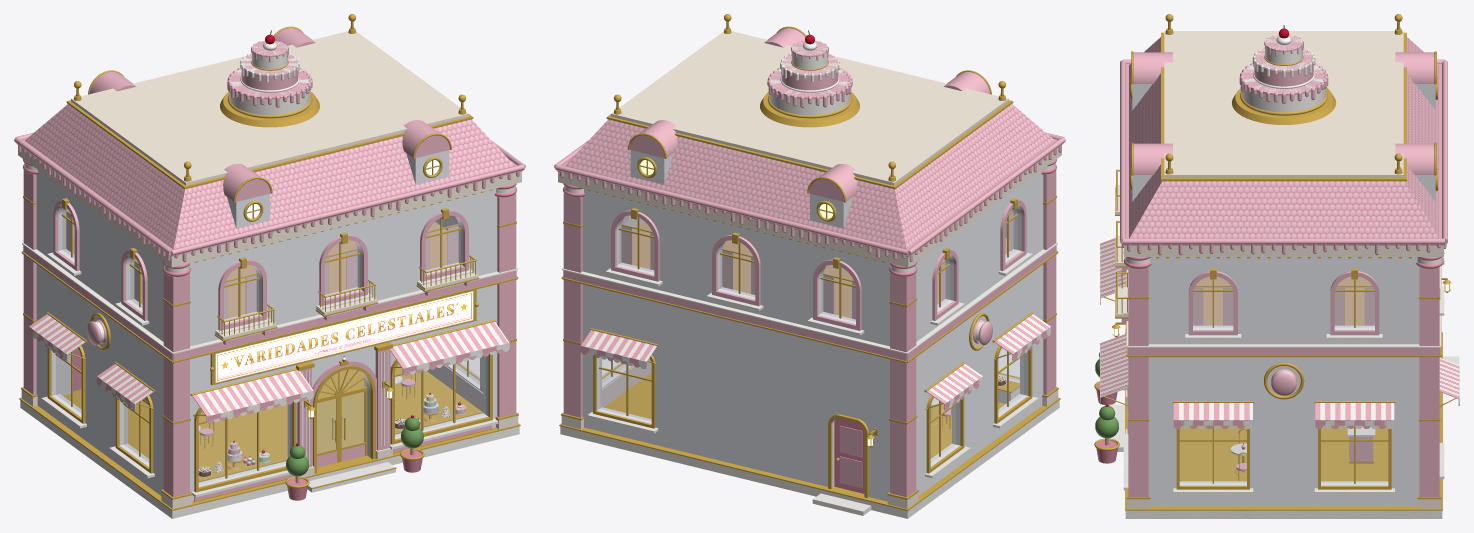
File: variedades_celestiales.glb
3 renders of one model, left to right at view 1: azimuth 30°, elevation 25°; view 2: azimuth 150°, elevation 25°; view 3: azimuth 270°, elevation 25°, orthographic. The views are drawn at different scales.
Visible parts, largest first — view 1: Fachada_Blanco_Celestial, Rosa_Pastel, Dorado_Pulido, Crema_Marfil, Tejas_Escama_Rosa, Cristal_Vitrina, Toldo_Rayas, Letrero_Principal, Marmol_Blanco, Glaseado_Blanco, Madera_Clara, Cortina_Tul_Rosa (+3 smaller); view 2: Fachada_Blanco_Celestial, Rosa_Pastel, Crema_Marfil, Tejas_Escama_Rosa, Dorado_Pulido, Cristal_Vitrina, Marmol_Blanco, Glaseado_Blanco, Toldo_Rayas, Madera_Clara, Cortina_Tul_Rosa, Rosa_Fresa (+1 smaller); view 3: Fachada_Blanco_Celestial, Crema_Marfil, Rosa_Pastel, Tejas_Escama_Rosa, Dorado_Pulido, Cristal_Vitrina, Toldo_Rayas, Marmol_Blanco, Glaseado_Blanco, Madera_Clara, Cortina_Tul_Rosa, Rosa_Fresa (+1 smaller).
Part boxes in pixels (left/top/right/bottom): Fachada_Blanco_Celestial: left=36, top=150, right=497, bottom=501; Rosa_Pastel: left=14, top=28, right=525, bottom=500; Dorado_Pulido: left=19, top=14, right=520, bottom=510; Crema_Marfil: left=18, top=31, right=521, bottom=508; Tejas_Escama_Rosa: left=25, top=104, right=514, bottom=249; Cristal_Vitrina: left=56, top=209, right=485, bottom=484; Toldo_Rayas: left=29, top=314, right=509, bottom=421; Letrero_Principal: left=215, top=291, right=473, bottom=382; Marmol_Blanco: left=20, top=252, right=519, bottom=518; Glaseado_Blanco: left=22, top=41, right=517, bottom=482; Madera_Clara: left=73, top=221, right=447, bottom=483; Cortina_Tul_Rosa: left=66, top=212, right=458, bottom=319; Fachada_Blanco_Celestial: left=582, top=150, right=1043, bottom=501; Rosa_Pastel: left=554, top=28, right=1065, bottom=497; Crema_Marfil: left=558, top=31, right=1061, bottom=508; Tejas_Escama_Rosa: left=565, top=104, right=1054, bottom=249; Dorado_Pulido: left=559, top=14, right=1060, bottom=510; Cristal_Vitrina: left=600, top=209, right=1023, bottom=461; Marmol_Blanco: left=560, top=252, right=1059, bottom=518; Glaseado_Blanco: left=562, top=41, right=1057, bottom=408; Toldo_Rayas: left=580, top=314, right=1050, bottom=408; Madera_Clara: left=632, top=221, right=1006, bottom=318; Cortina_Tul_Rosa: left=621, top=212, right=1013, bottom=319; Rosa_Fresa: left=563, top=159, right=1056, bottom=493; Fachada_Blanco_Celestial: left=1132, top=84, right=1435, bottom=506; Crema_Marfil: left=1115, top=31, right=1443, bottom=508; Rosa_Pastel: left=1120, top=35, right=1459, bottom=496; Tejas_Escama_Rosa: left=1129, top=37, right=1438, bottom=238; Dorado_Pulido: left=1094, top=14, right=1458, bottom=510; Cristal_Vitrina: left=1180, top=277, right=1387, bottom=482; Toldo_Rayas: left=1100, top=238, right=1459, bottom=425; Marmol_Blanco: left=1110, top=248, right=1459, bottom=518; Glaseado_Blanco: left=1100, top=35, right=1442, bottom=430; Madera_Clara: left=1105, top=276, right=1371, bottom=445; Cortina_Tul_Rosa: left=1193, top=287, right=1374, bottom=325; Rosa_Fresa: left=1096, top=252, right=1444, bottom=463.
Bounding box in the file's own units: 13.43 × 13.3 × 10.84.
24 materials, 5 textured.
